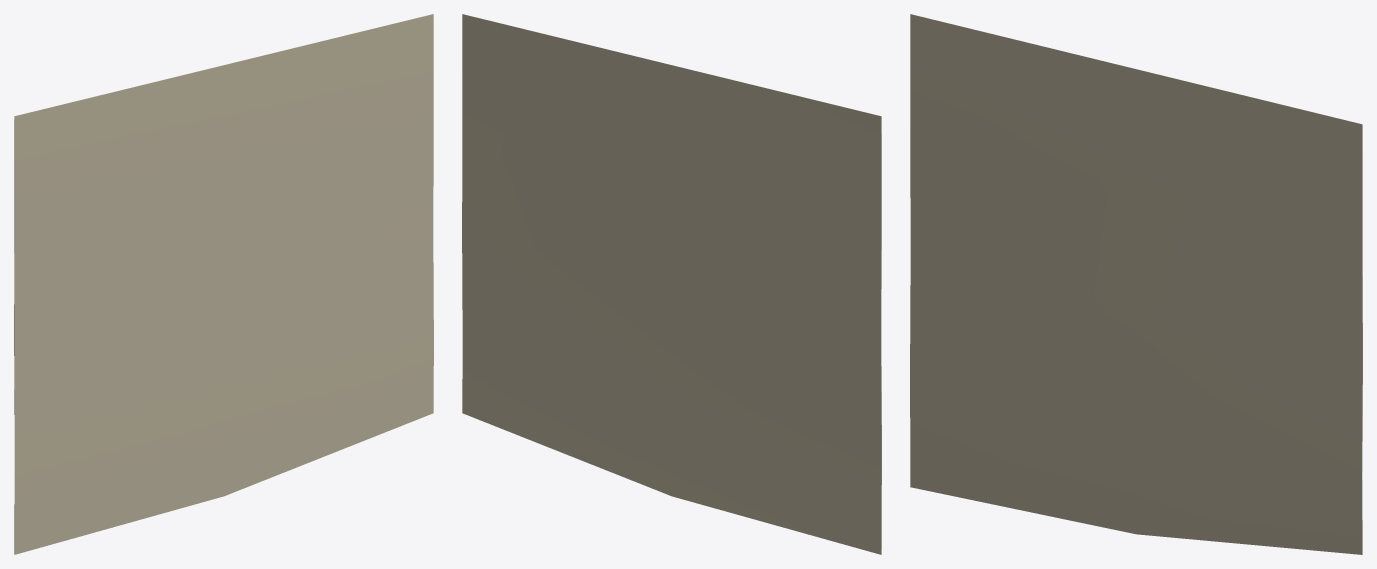
Rendered from hanging-seal-lod1.fbx.
3 views of the same model, side by side, from view 1: azimuth 30°, elevation 25°; view 2: azimuth 150°, elevation 25°; view 3: azimuth 330°, elevation 25° (orthographic). The views are drawn at different scales.
Visible parts, largest first — view 1: Curled torn ceremonial strip; view 2: Curled torn ceremonial strip; view 3: Curled torn ceremonial strip.
Part boxes in pixels (<box>): Curled torn ceremonial strip: <box>14,14,433,554</box>; Curled torn ceremonial strip: <box>462,14,881,554</box>; Curled torn ceremonial strip: <box>910,14,1362,554</box>.
Size of the model in its own units: 100 by 100 by 0.6004.
